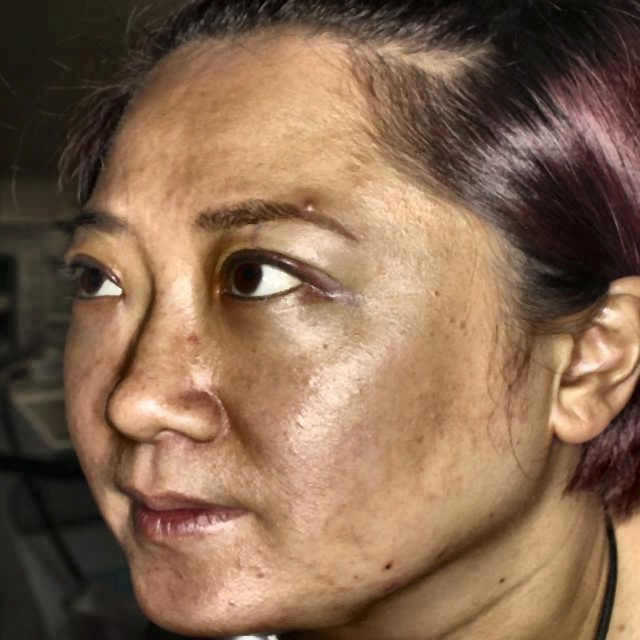comedone: (299, 196, 315, 219)
